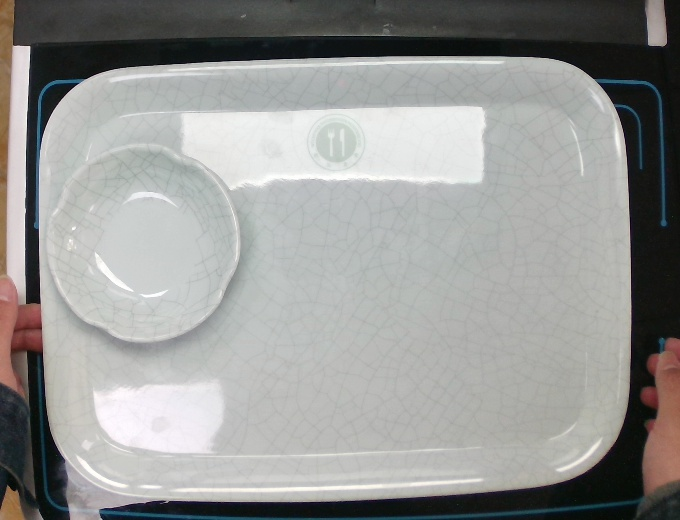JYsf-Ao_Yuan_Wan: (40, 140, 247, 349)
